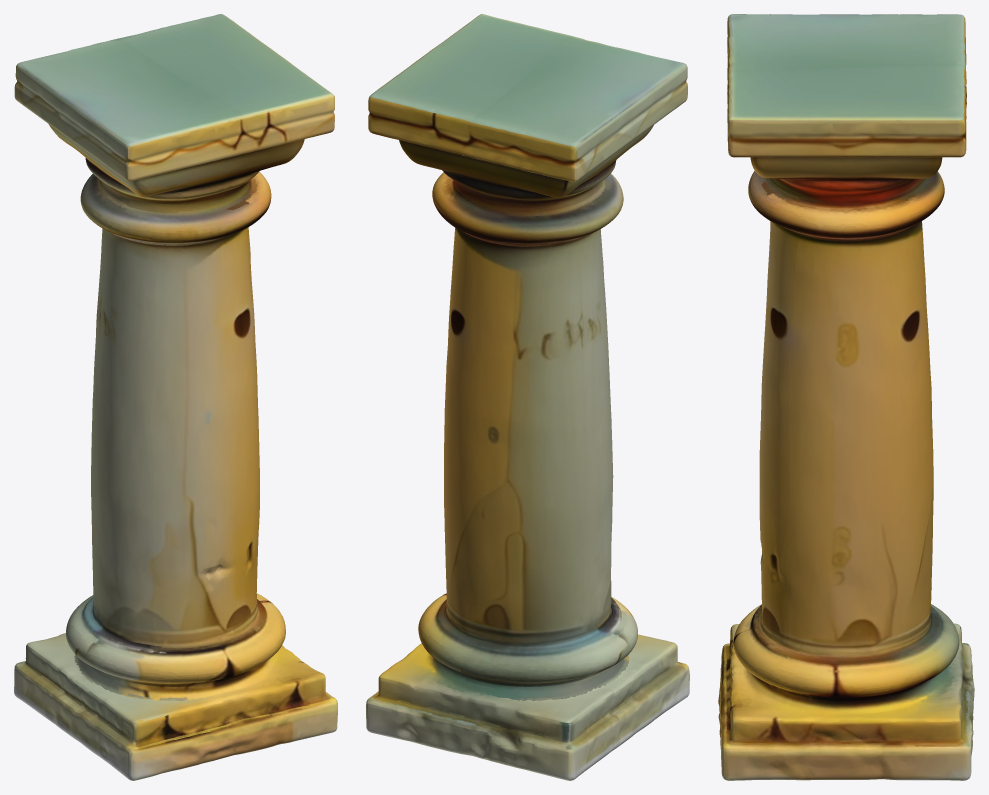
The model's file is weathered-monolith-pillar-generated-2026-04-18t22-01-36-007z-texture-wrap-2026-04-18T22-48-19-209Z.high.glb.
The picture shows the model from 3 angles, left to right: view 1: azimuth 30°, elevation 25°; view 2: azimuth 150°, elevation 25°; view 3: azimuth 270°, elevation 25°; orthographic projection. The views are drawn at different scales.
Visible parts, largest first — view 1: temp_mesh.ply; view 2: temp_mesh.ply; view 3: temp_mesh.ply.
Boxes of the visible parts, bbox=[...] form: temp_mesh.ply: bbox=[14, 14, 337, 780]; temp_mesh.ply: bbox=[366, 14, 689, 780]; temp_mesh.ply: bbox=[718, 14, 974, 780].
Bounding box in the file's own units: 0.6844 × 1.97 × 0.6911.
1 material, 1 textured.
